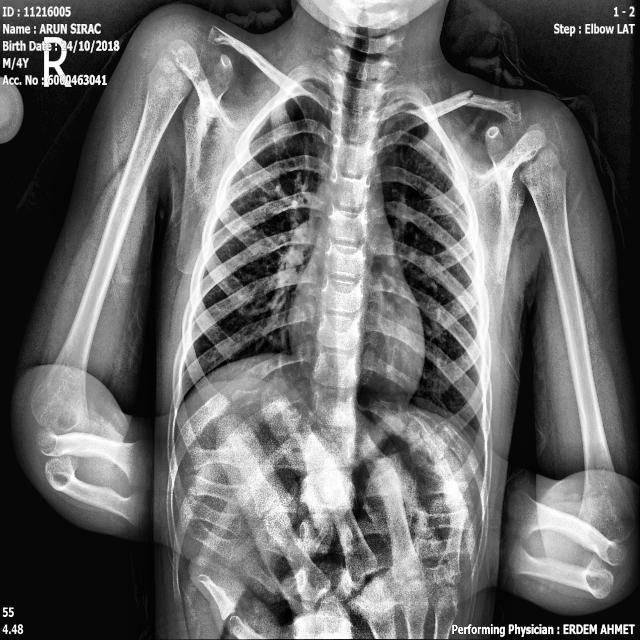Fracture: (454, 81, 484, 114)
